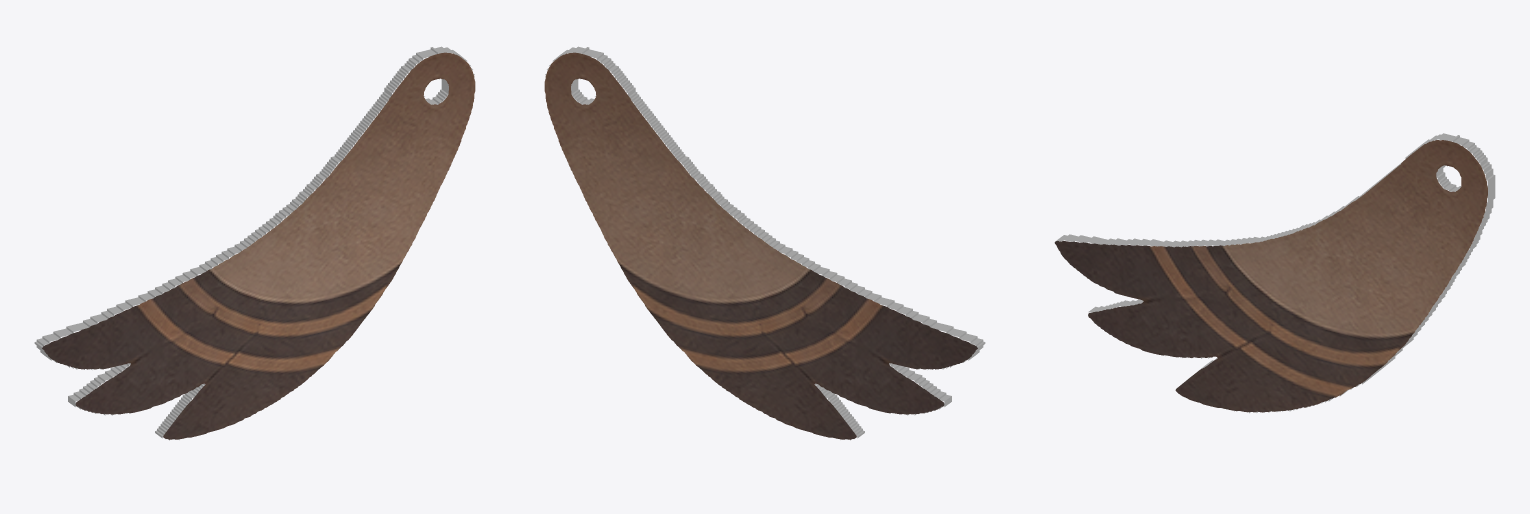
File: TipFanLeft.glb
The picture shows the model from 3 angles, left to right: view 1: azimuth 30°, elevation 25°; view 2: azimuth 150°, elevation 25°; view 3: azimuth 330°, elevation 25°; orthographic projection.
Visible parts, largest first — view 1: PaperVolume; view 2: PaperVolume; view 3: PaperVolume.
Boxes of the visible parts, box(x1,y1,x2,y2) form: PaperVolume: box(34, 46, 475, 440); PaperVolume: box(544, 46, 985, 440); PaperVolume: box(1054, 133, 1495, 413).
Size of the model in its own units: 2.92 by 2.15 by 0.08.
3 materials, 2 textured.
